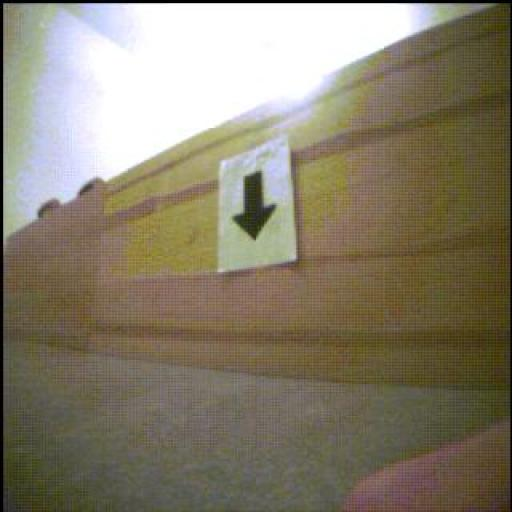arrow: (233, 172, 276, 241)
